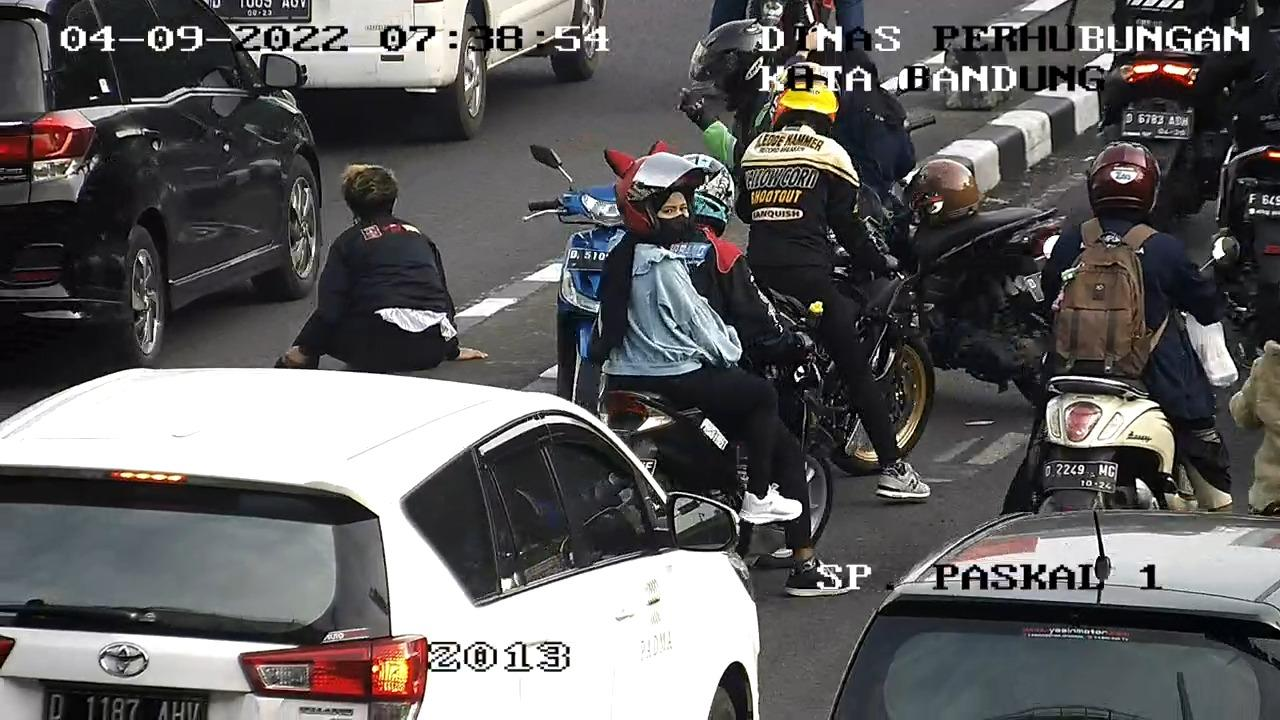accident: (273, 149, 493, 387)
